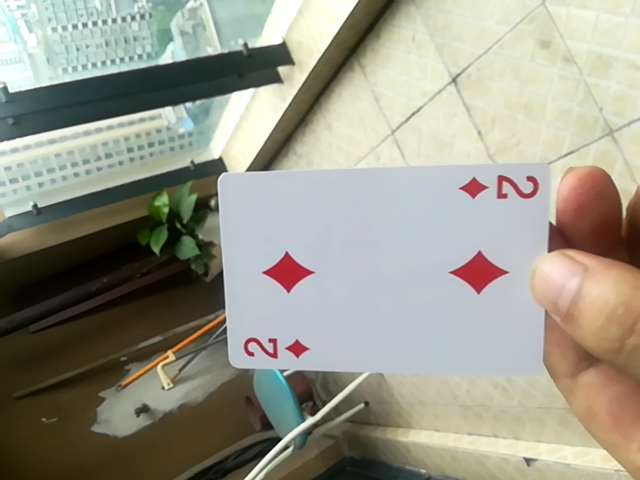fk 2: (217, 162, 559, 380)
